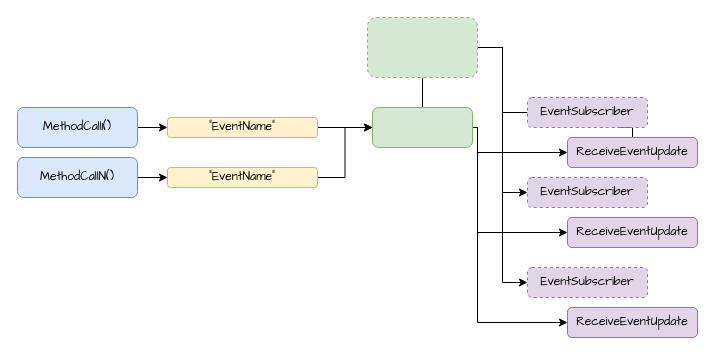
The diagram is 715 pixels wide and 355 high, and some of its shapes have lost their labels. The shapes that lost their labels are listed below. From the top down, each one's centre as x and y in pixels, then its label:
the point at 422,47: EventPublisher
the point at 422,127: PublishEvent
